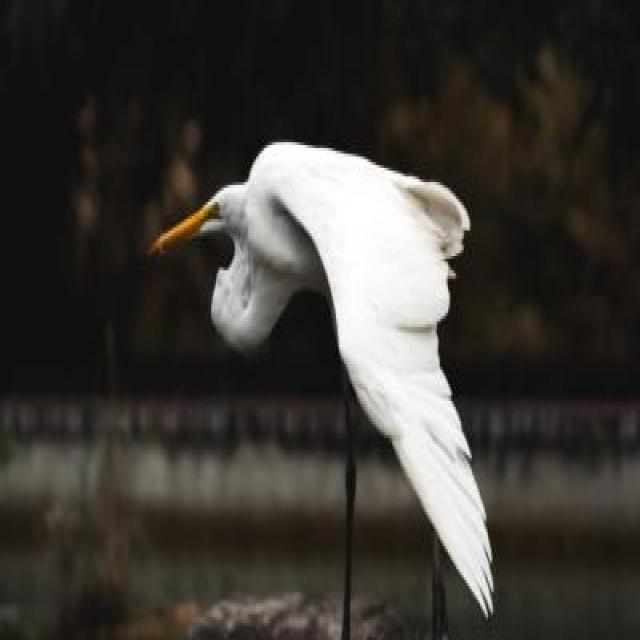birds: (137, 110, 527, 624)
